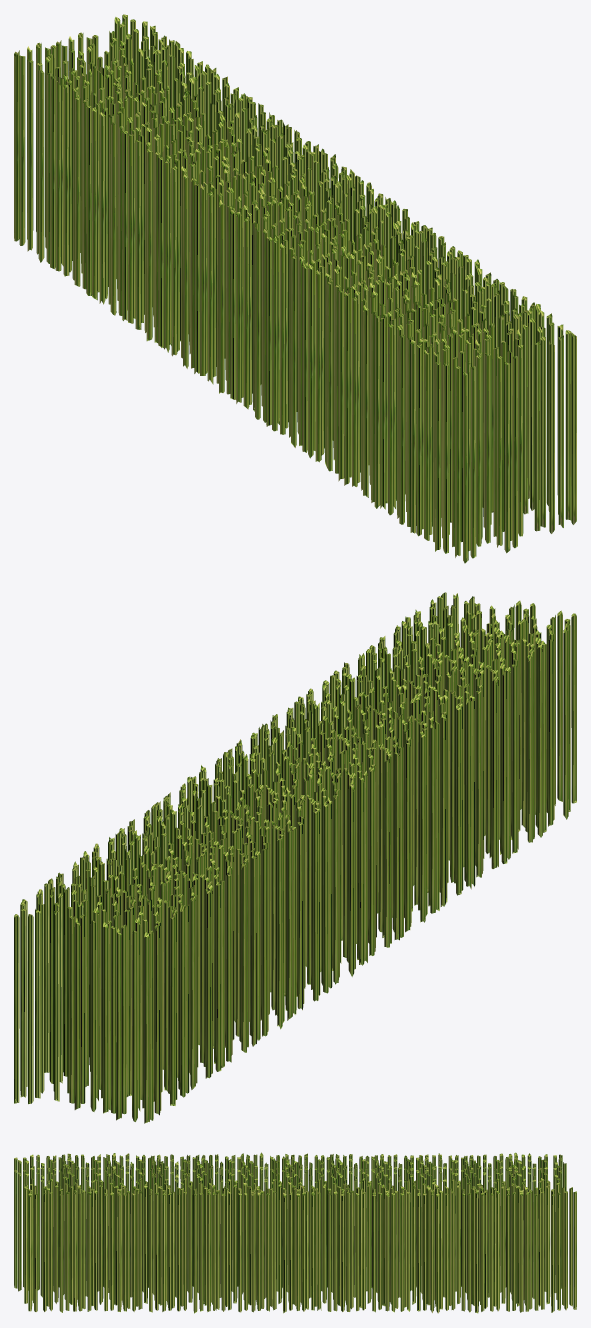
The model's file is Bambou.fbx.
3 views of the same model, one above another, from view 1: azimuth 30°, elevation 25°; view 2: azimuth 150°, elevation 25°; view 3: azimuth 270°, elevation 25° (orthographic). The views are drawn at different scales.
Visible parts, largest first — view 1: Cylinder.020; view 2: Cylinder.020; view 3: Cylinder.020.
Part boxes in pixels (box(x1,y1,x2,y2)): Cylinder.020: box(14, 14, 576, 563); Cylinder.020: box(14, 592, 576, 1123); Cylinder.020: box(14, 1152, 576, 1313).
Bounding box in the file's own units: 1000 × 1384 × 5809.
